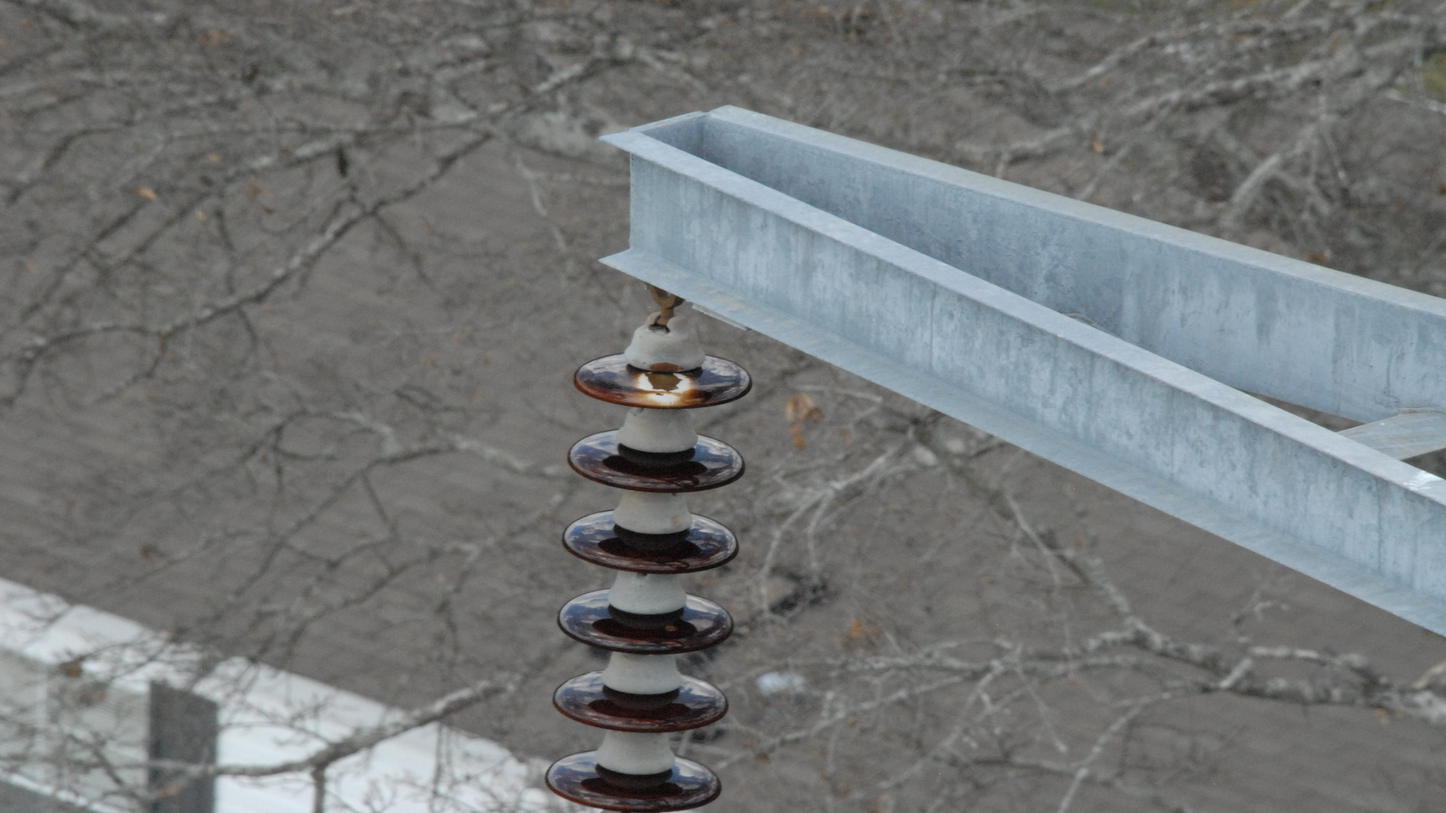insulator: (543, 346, 755, 813)
